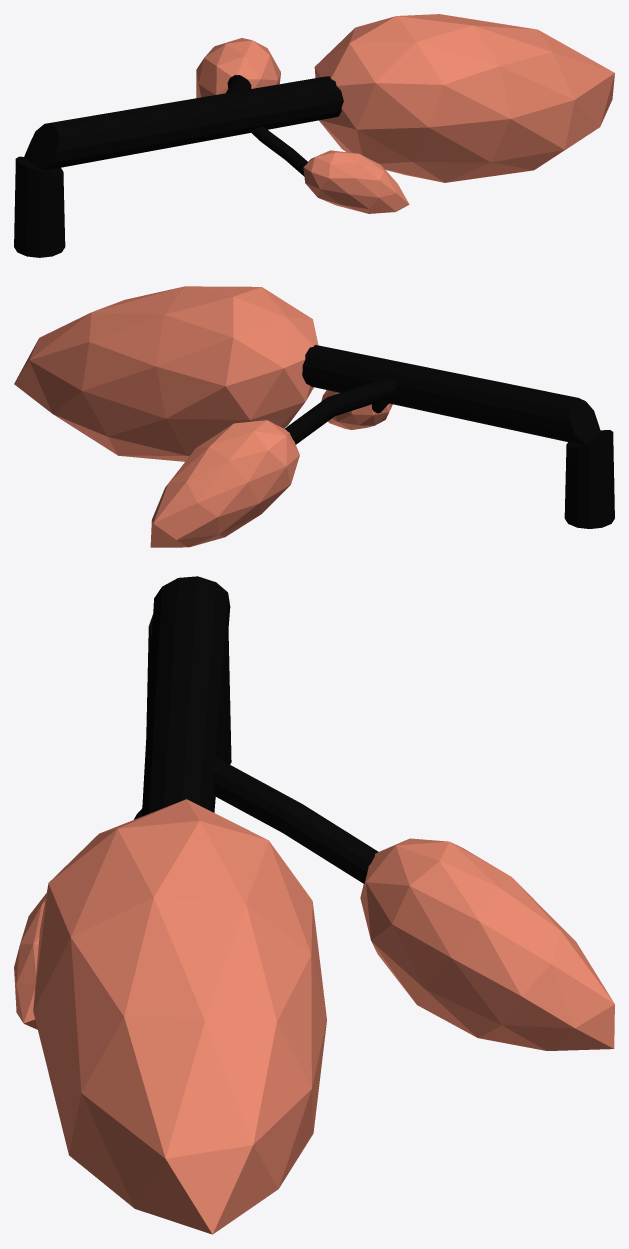
Rendered from FallenMapleTree.fbx.
3 renders of one model, top to bottom at view 1: azimuth 30°, elevation 25°; view 2: azimuth 150°, elevation 25°; view 3: azimuth 270°, elevation 25°, orthographic. The views are drawn at different scales.
Visible parts, largest first — view 1: MapleTree; view 2: MapleTree; view 3: MapleTree.
Part boxes in pixels (<box>): MapleTree: <box>14,14,614,257</box>; MapleTree: <box>14,286,614,547</box>; MapleTree: <box>14,576,614,1234</box>.
Bounding box in the file's own units: 8.14 × 2.34 × 4.2.
